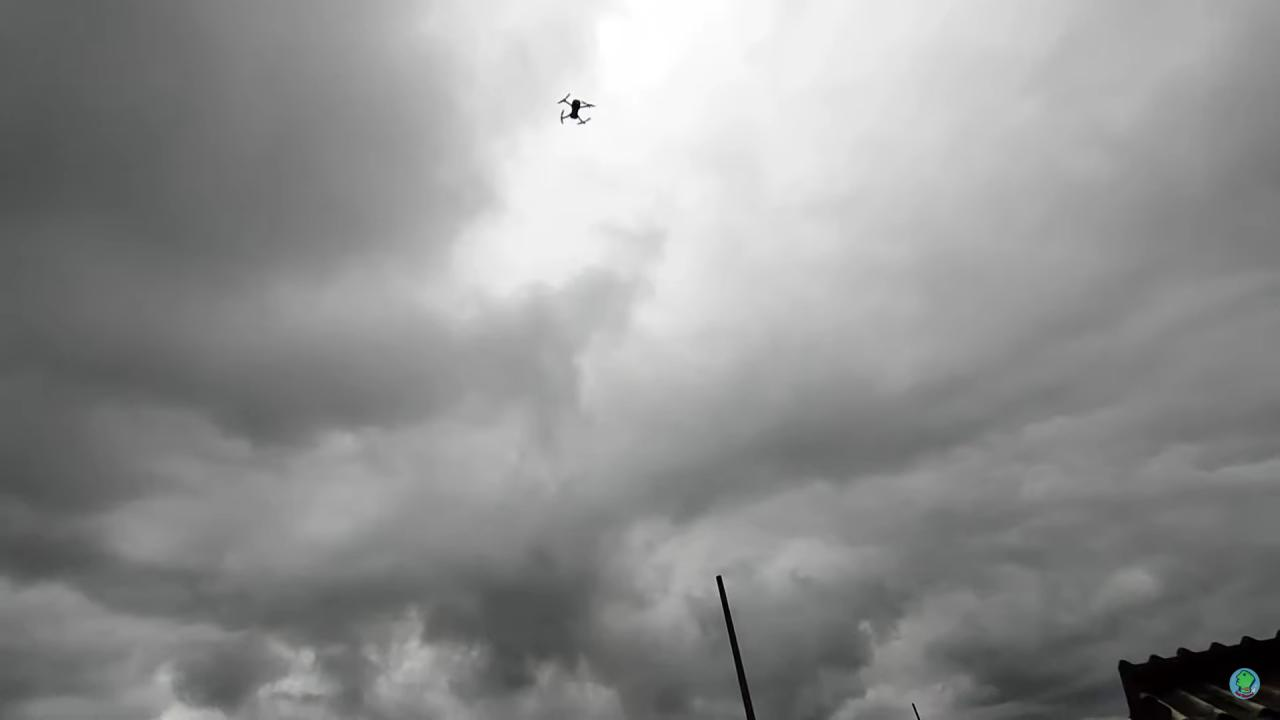Drone: (547, 88, 603, 133)
